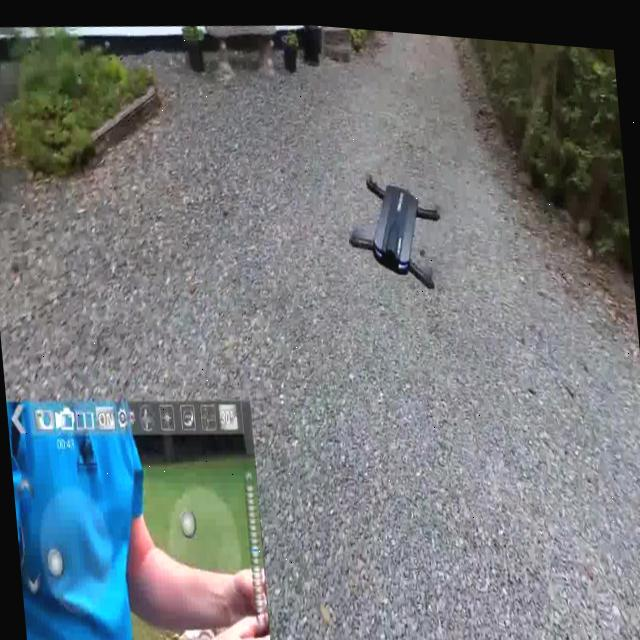drone: (27, 597, 640, 640)
